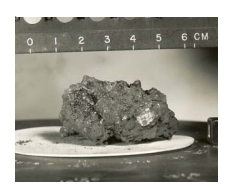Breccia: (51, 69, 189, 146)
